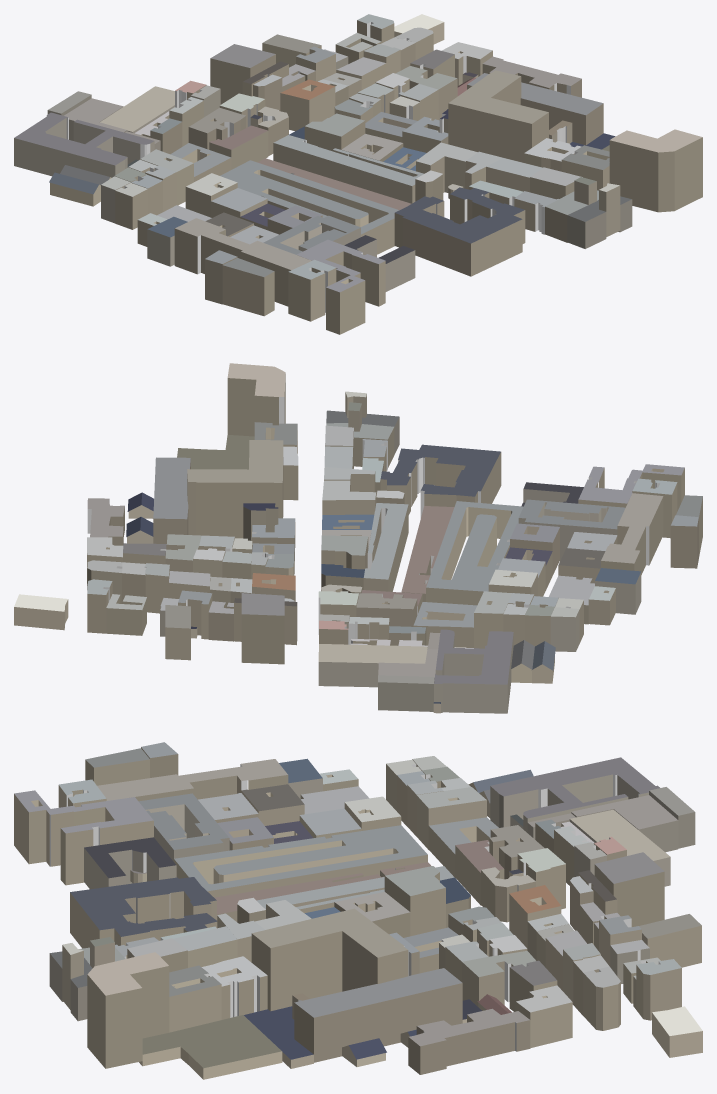
The picture shows the model from 3 angles, top to bottom: view 1: azimuth 30°, elevation 25°; view 2: azimuth 150°, elevation 25°; view 3: azimuth 270°, elevation 25°; orthographic projection. The views are drawn at different scales.
Visible parts, largest first — view 1: tuile; view 2: tuile; view 3: tuile.
Part boxes in pixels (box(x1,y1,x2,y2)): tuile: box(14, 14, 702, 334); tuile: box(14, 363, 702, 713); tuile: box(14, 742, 702, 1079).
Size of the model in its own units: 276 by 38.89 by 274.
